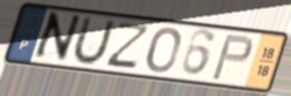6: (179, 27, 217, 82)
N: (30, 10, 84, 65)
O: (144, 25, 182, 74)
P: (209, 33, 256, 82)
U: (69, 14, 118, 67)
Z: (102, 21, 153, 70)
